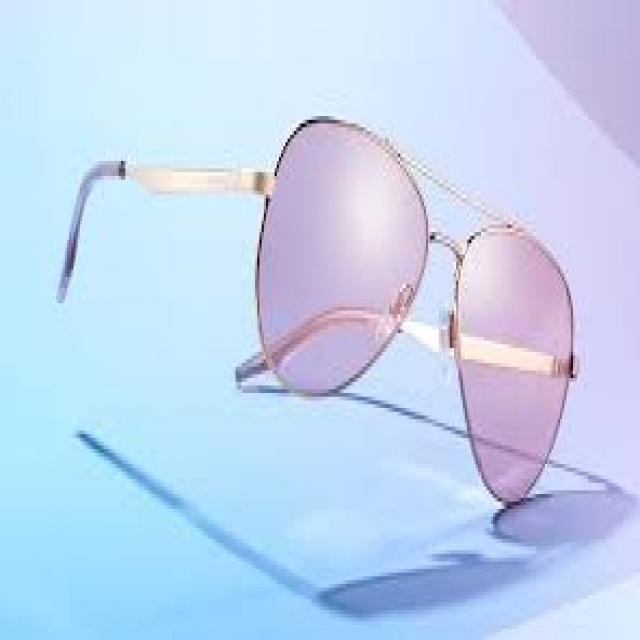suspicious-objects: (251, 109, 579, 509)
